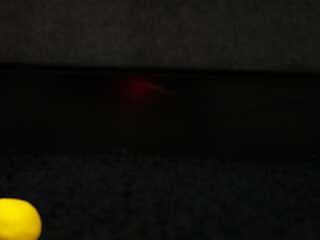Lemon: (0, 198, 43, 240)
